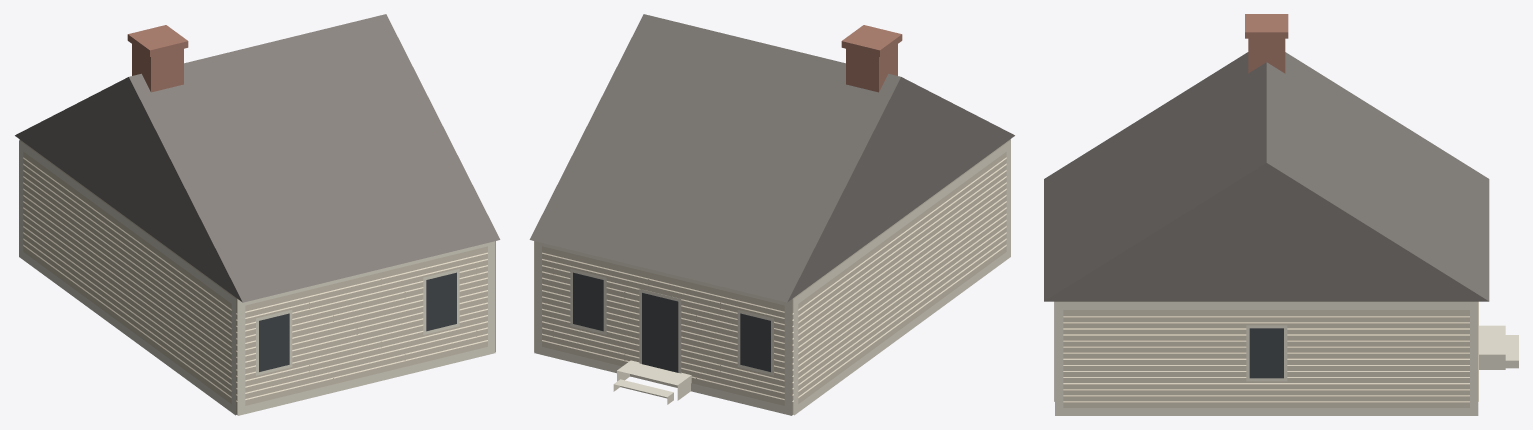
Rendered from recon_1835_blk_randolph_franklin_d5_02__inferred_1835.glb.
3 views of the same model, side by side, from view 1: azimuth 30°, elevation 25°; view 2: azimuth 150°, elevation 25°; view 3: azimuth 270°, elevation 25° (orthographic). The views are drawn at different scales.
Parts seen in each view (by area): view 1: recon_1835_blk_randolph_franklin_d5_02__inferred_1835; view 2: recon_1835_blk_randolph_franklin_d5_02__inferred_1835; view 3: recon_1835_blk_randolph_franklin_d5_02__inferred_1835.
Boxes of the visible parts, left/top/right/bottom form: recon_1835_blk_randolph_franklin_d5_02__inferred_1835: left=15, top=14, right=500, bottom=415; recon_1835_blk_randolph_franklin_d5_02__inferred_1835: left=529, top=14, right=1014, bottom=415; recon_1835_blk_randolph_franklin_d5_02__inferred_1835: left=1044, top=14, right=1518, bottom=415.
Size of the model in its own units: 6.65 by 7.09 by 10.76.
